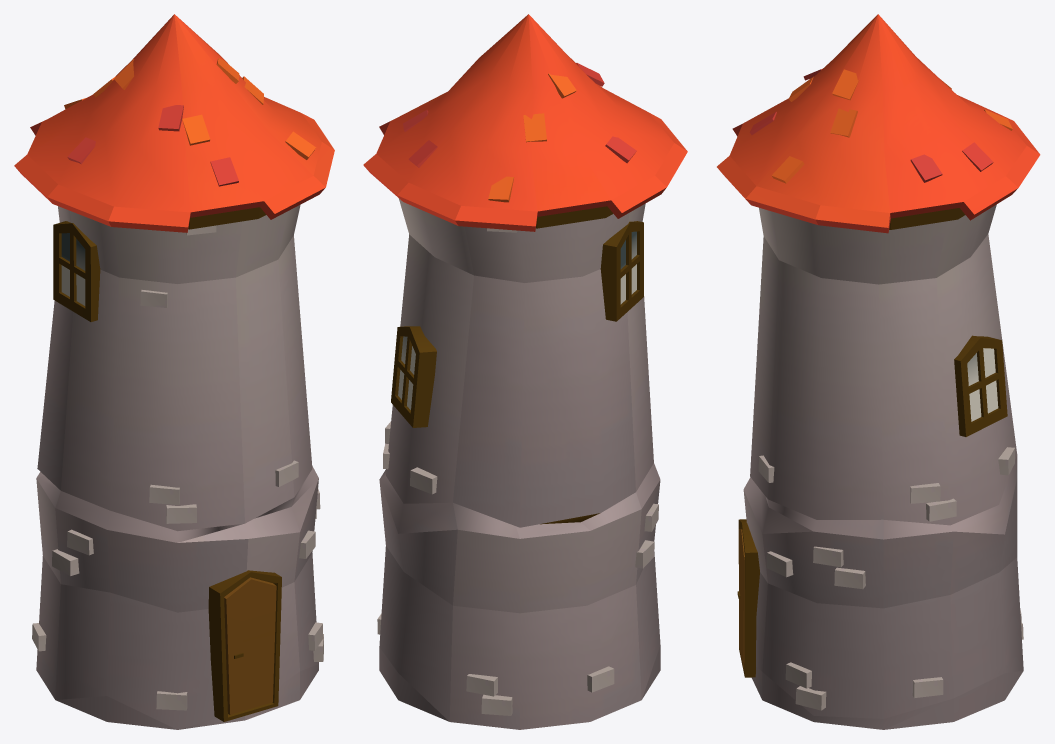
File: Tower_1.fbx
The picture shows the model from 3 angles, left to right: view 1: azimuth 30°, elevation 25°; view 2: azimuth 150°, elevation 25°; view 3: azimuth 270°, elevation 25°; orthographic projection.
Visible parts, largest first — view 1: Tower_1; view 2: Tower_1; view 3: Tower_1.
Part boxes in pixels (x1,y1,x2,y2): Tower_1: (14, 14, 334, 729); Tower_1: (363, 14, 687, 729); Tower_1: (717, 14, 1040, 729).
Size of the model in its own units: 1.36 by 3.09 by 1.39.
